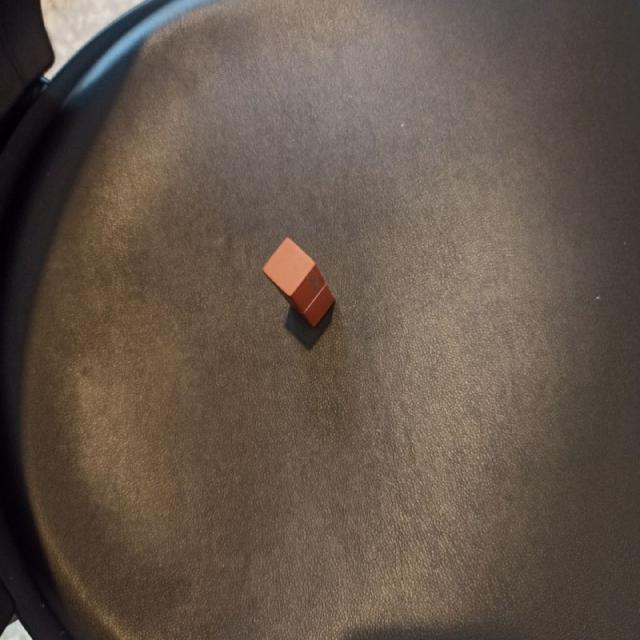lipstick: (262, 236, 335, 328)
